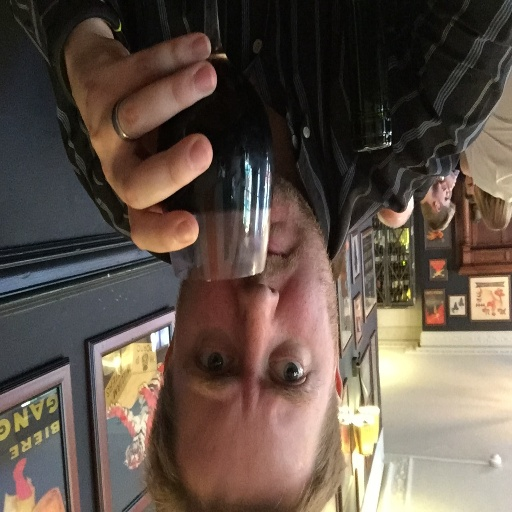hand: (50, 14, 263, 256), (445, 170, 457, 194)
